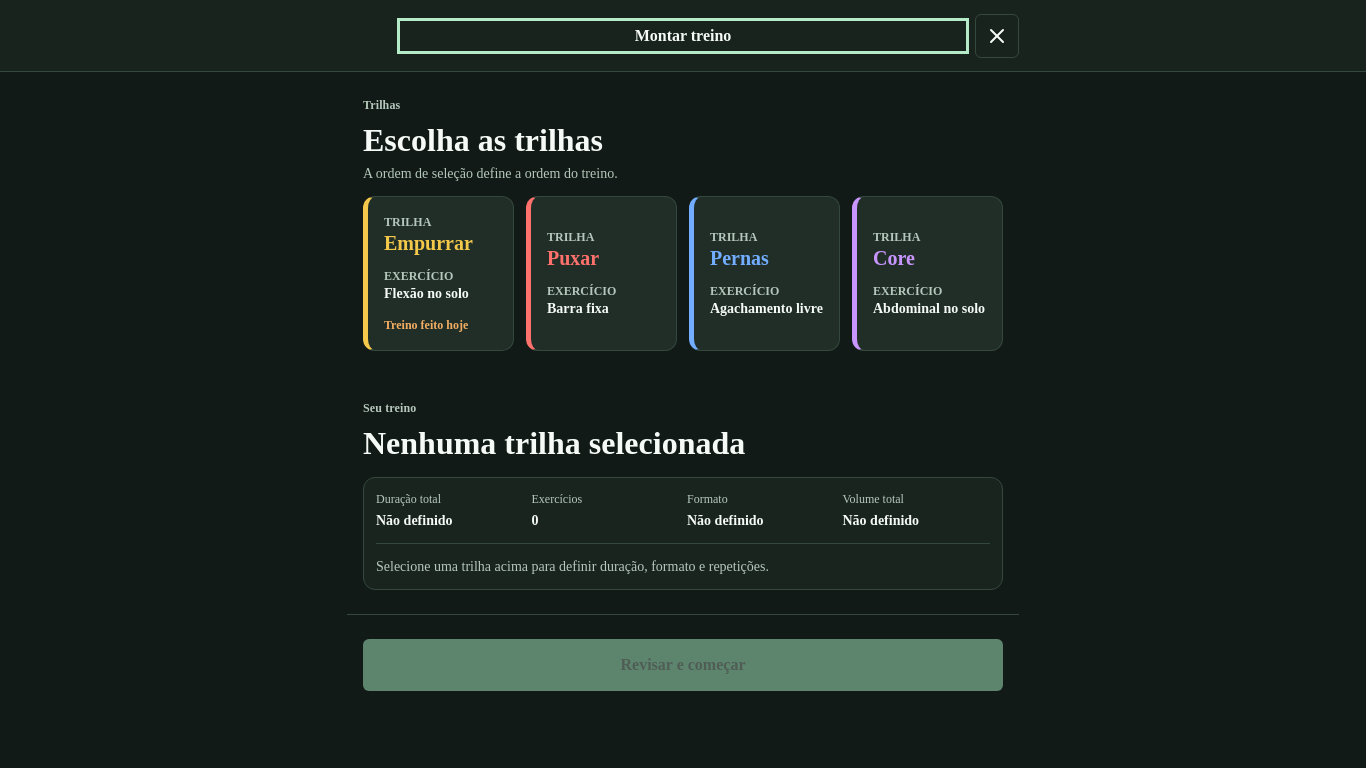
Test: WorkoutFlow › mantém o aviso de trilha já realizada hoje
Expected: the text "Treino feito hoje" is shown, x1=384 y1=318 x2=468 y2=332
Click the button "Empurrar Trilha Exercício Flexão no solo Treino feito hoje": (438, 273) x1=363 y1=196 x2=514 y2=351
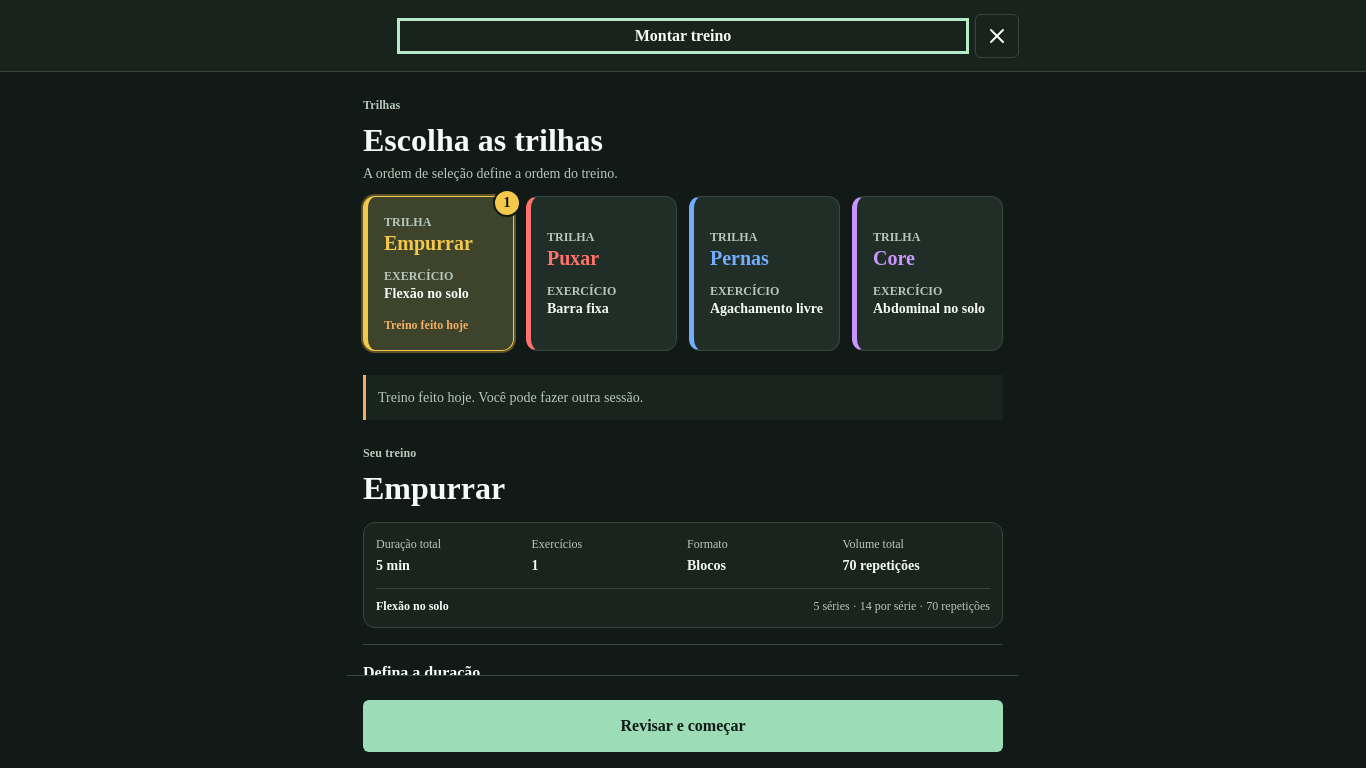
Result: the text "Treino feito hoje. Você pode fazer outra sessão." is shown at x1=363 y1=375 x2=1003 y2=420
